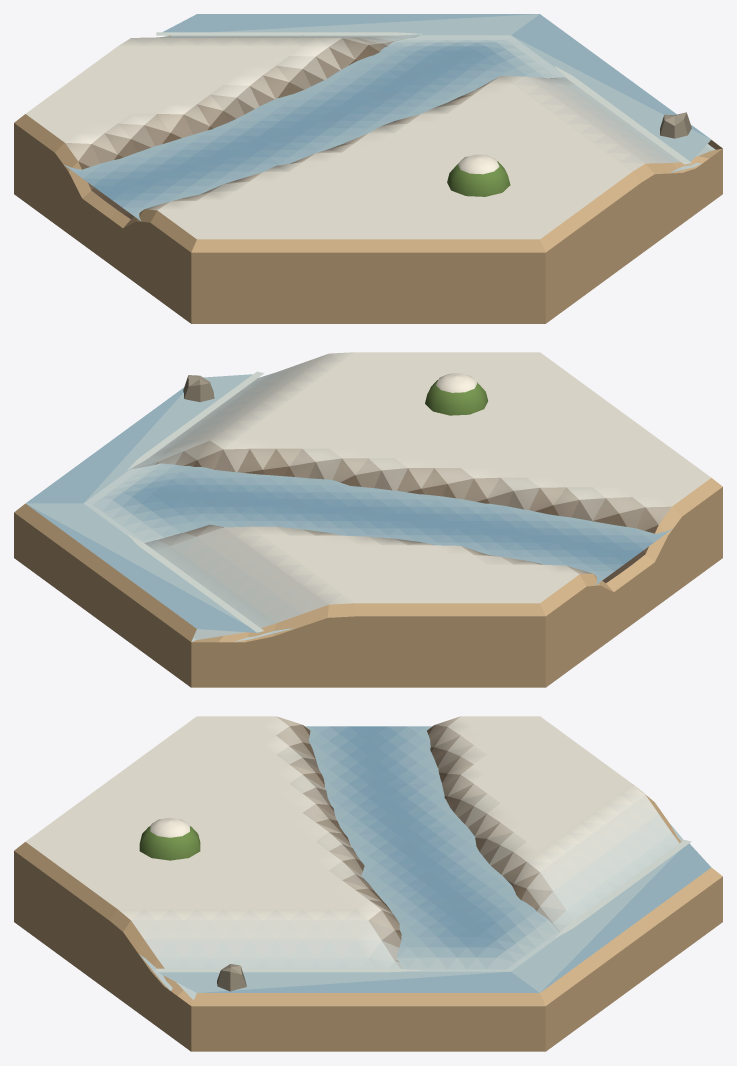
The model's file is estuary_sea2_edge3_snow.fbx.
The picture shows the model from 3 angles, top to bottom: view 1: azimuth 30°, elevation 25°; view 2: azimuth 150°, elevation 25°; view 3: azimuth 270°, elevation 25°; orthographic projection.
Parts seen in each view (by area): view 1: estuary_sea2_edge3_snow; view 2: estuary_sea2_edge3_snow; view 3: estuary_sea2_edge3_snow.
Part boxes in pixels (x1,y1,x2,y2): estuary_sea2_edge3_snow: [14, 14, 722, 323]; estuary_sea2_edge3_snow: [14, 352, 722, 687]; estuary_sea2_edge3_snow: [14, 716, 722, 1051].
Size of the model in its own units: 1.73 by 0.331 by 2.
